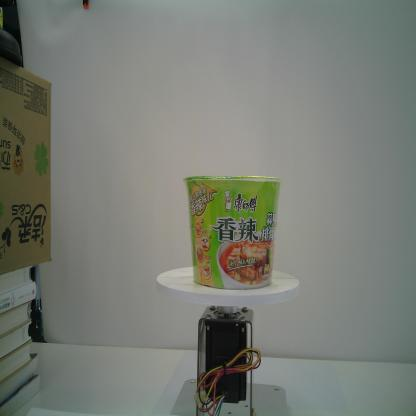Instant Noodles: (183, 173, 282, 291)
